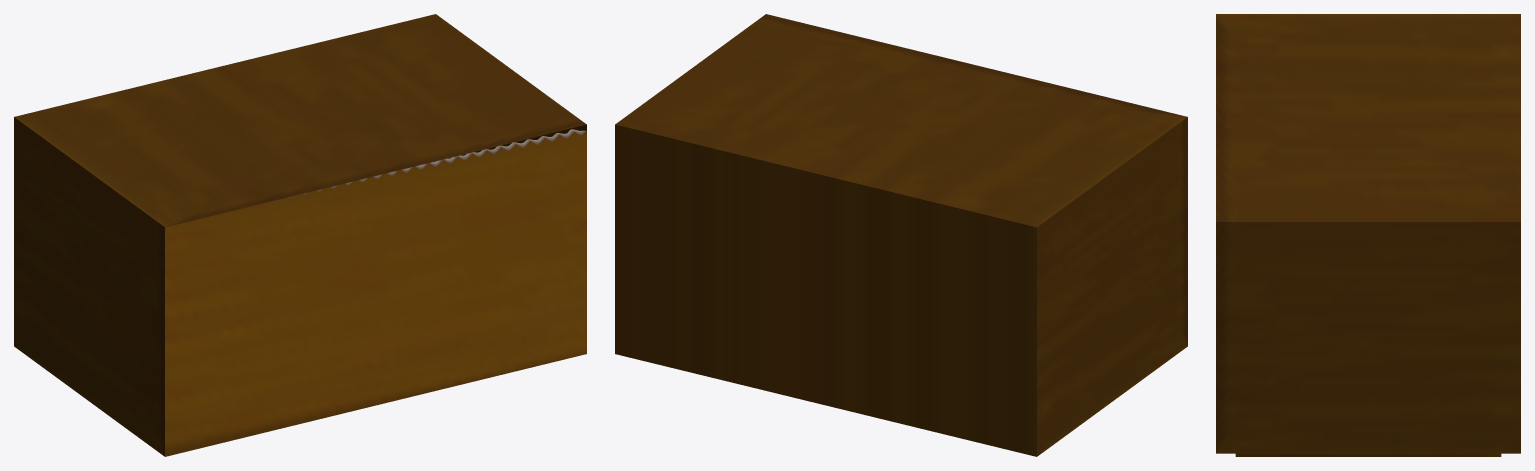
The model's file is pz_counter_modern_wall.obj.
The picture shows the model from 3 angles, left to right: view 1: azimuth 30°, elevation 25°; view 2: azimuth 150°, elevation 25°; view 3: azimuth 270°, elevation 25°; orthographic projection.
Size of the model in its own units: 1 by 0.536 by 0.62.
1 material, 1 textured.
